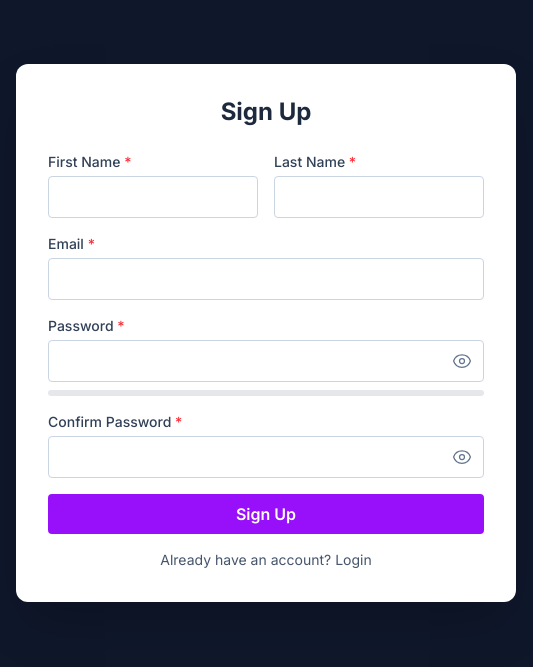
Test: SignupPage Validations › shows required validation errors when submitting an empty form
The width and height of the screenshot is (533, 667).
Click the button "Sign Up".
click(266, 514)  # box x1=48 y1=494 x2=484 y2=534
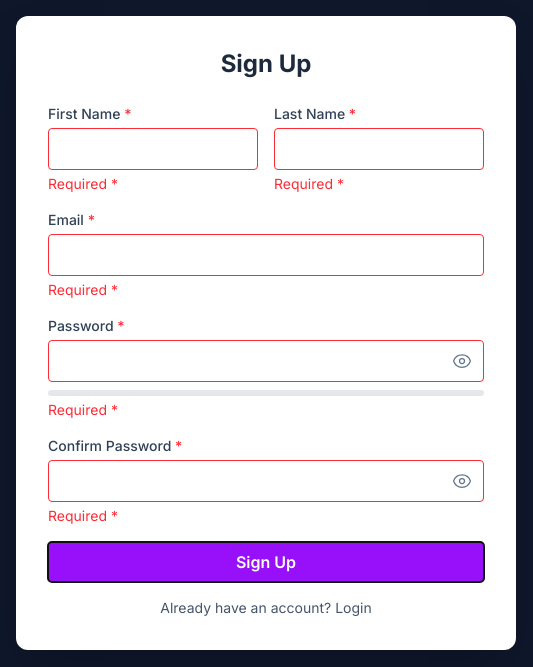
Check: the text "Required *" below "First Name" is shown, box x1=48 y1=175 x2=118 y2=192
